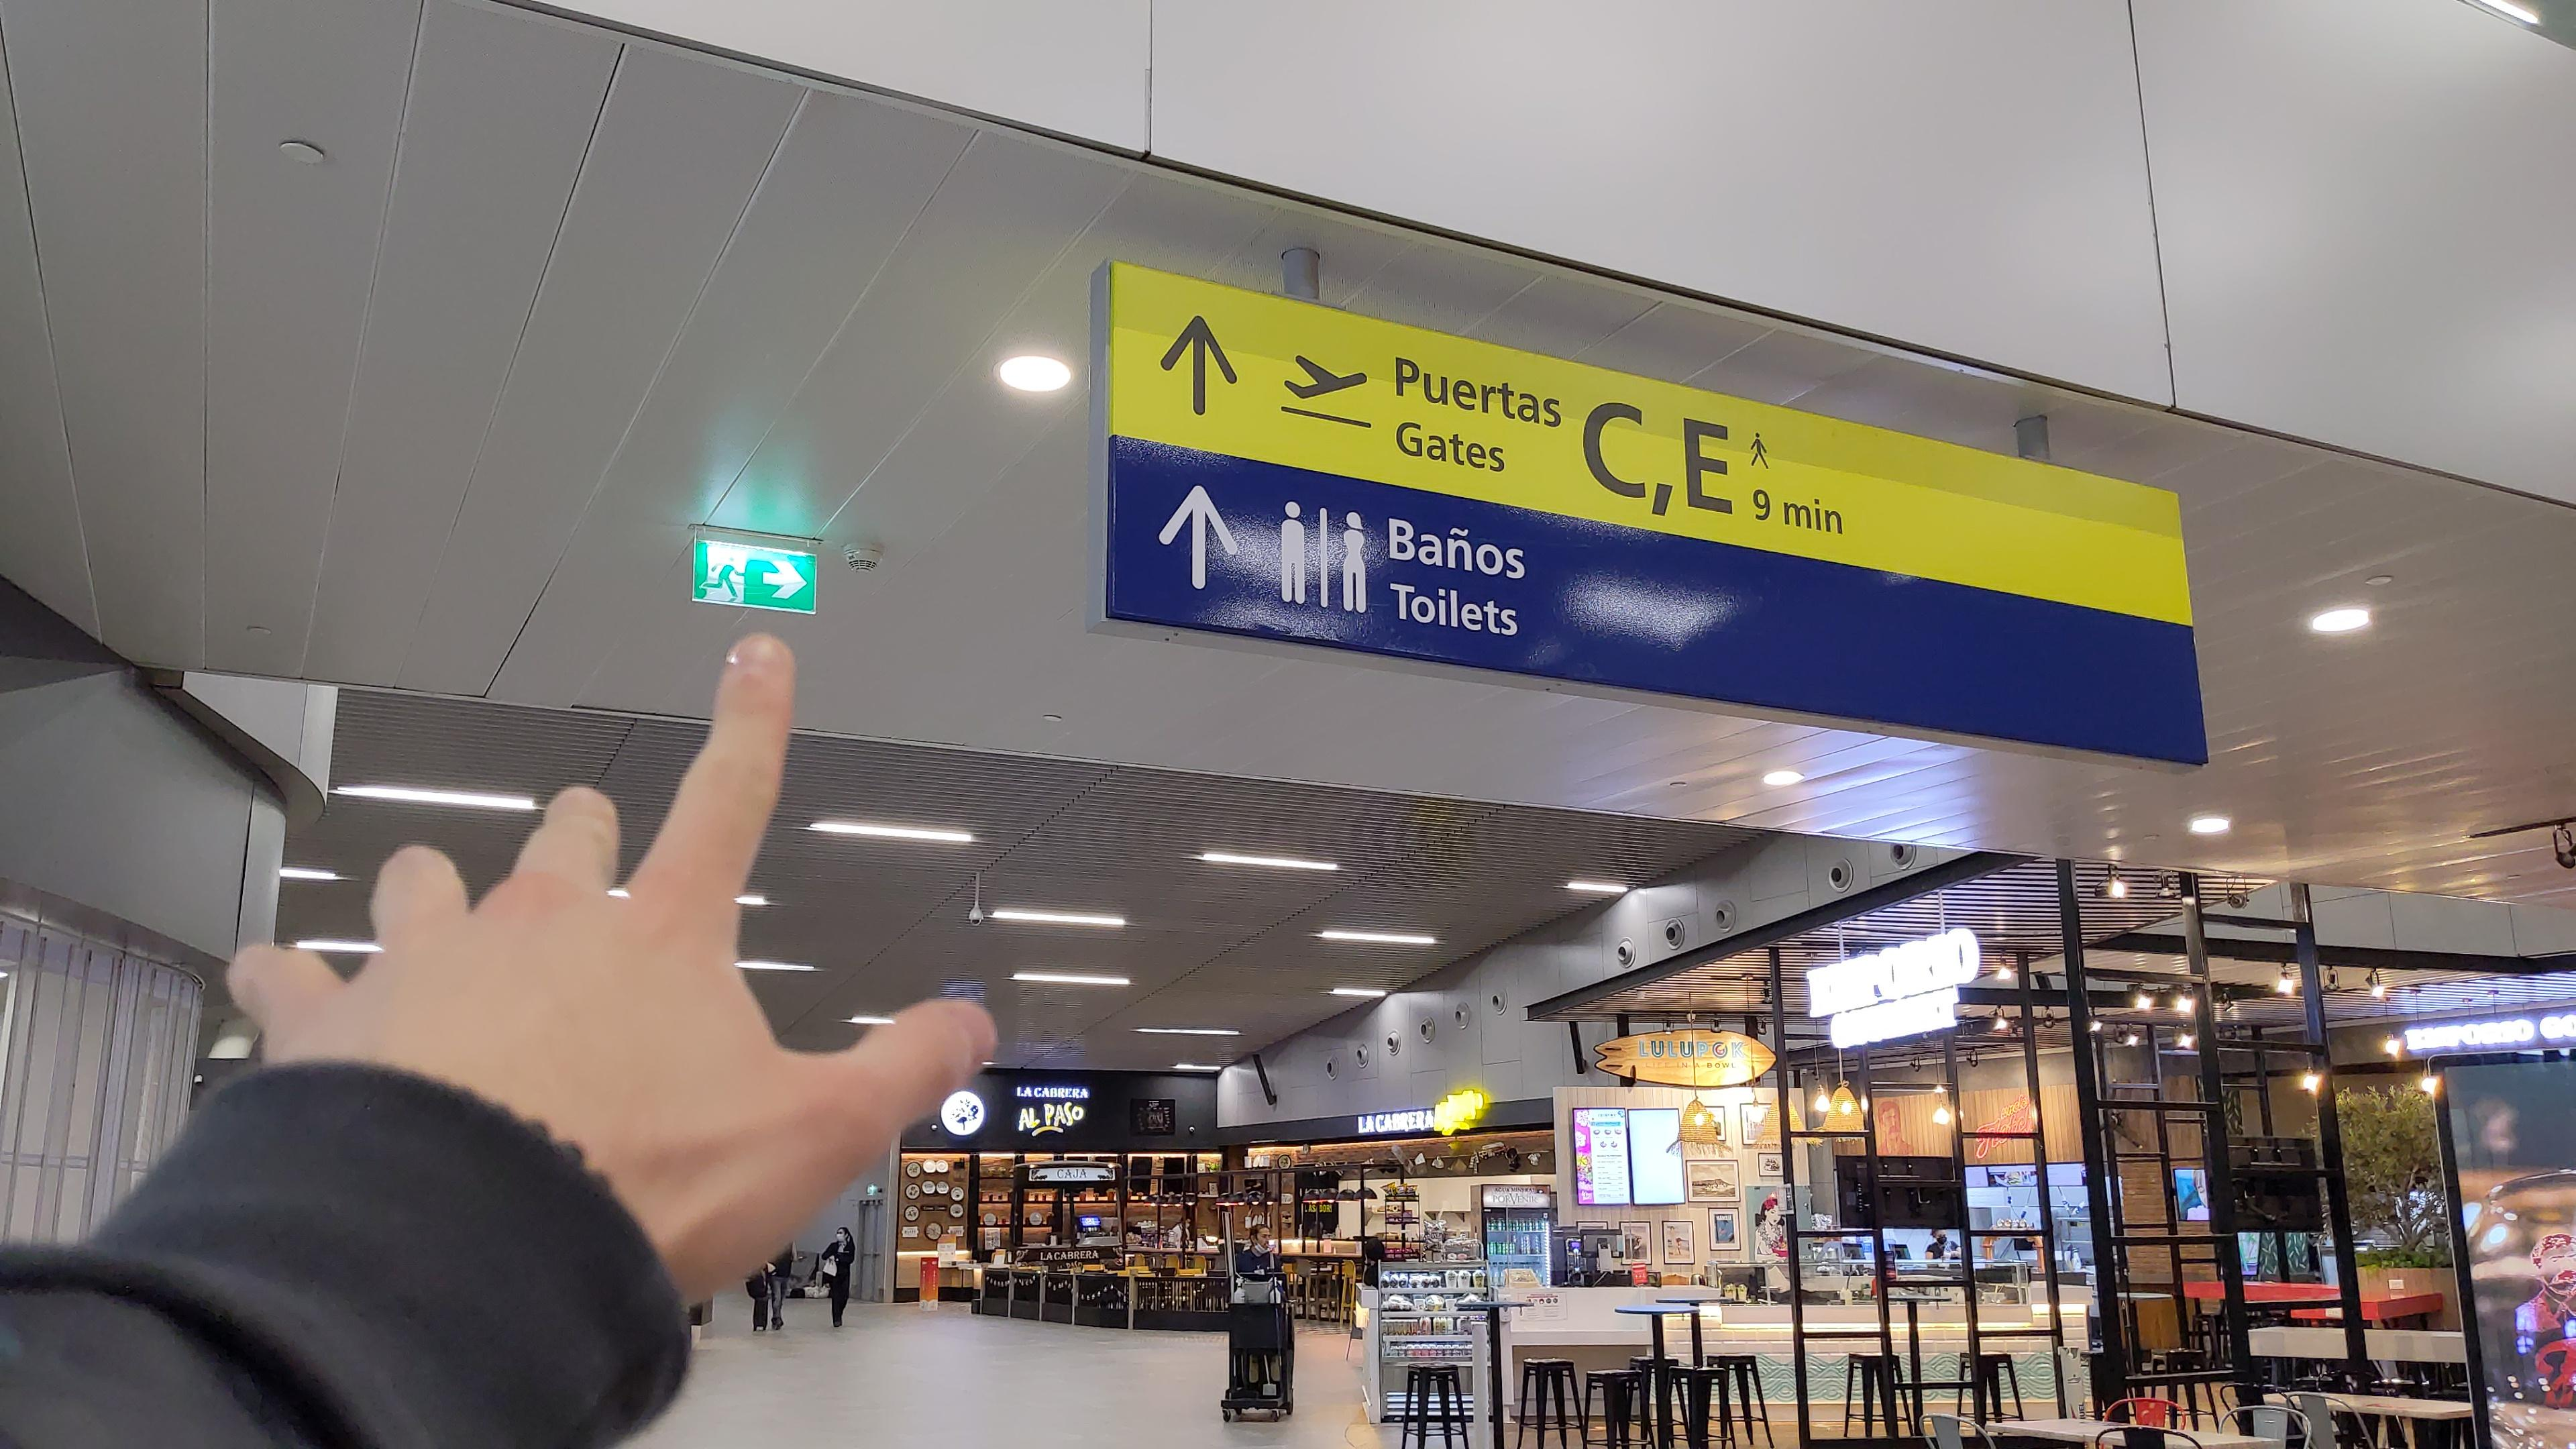airplane symbol: (1279, 345, 1373, 407)
bathrooms: (1270, 490, 1376, 625)
emergency exit: (701, 547, 748, 607)
emergency right arrow: (759, 554, 810, 607)
thin up arrow: (1159, 481, 1246, 596), (1161, 310, 1240, 421)
